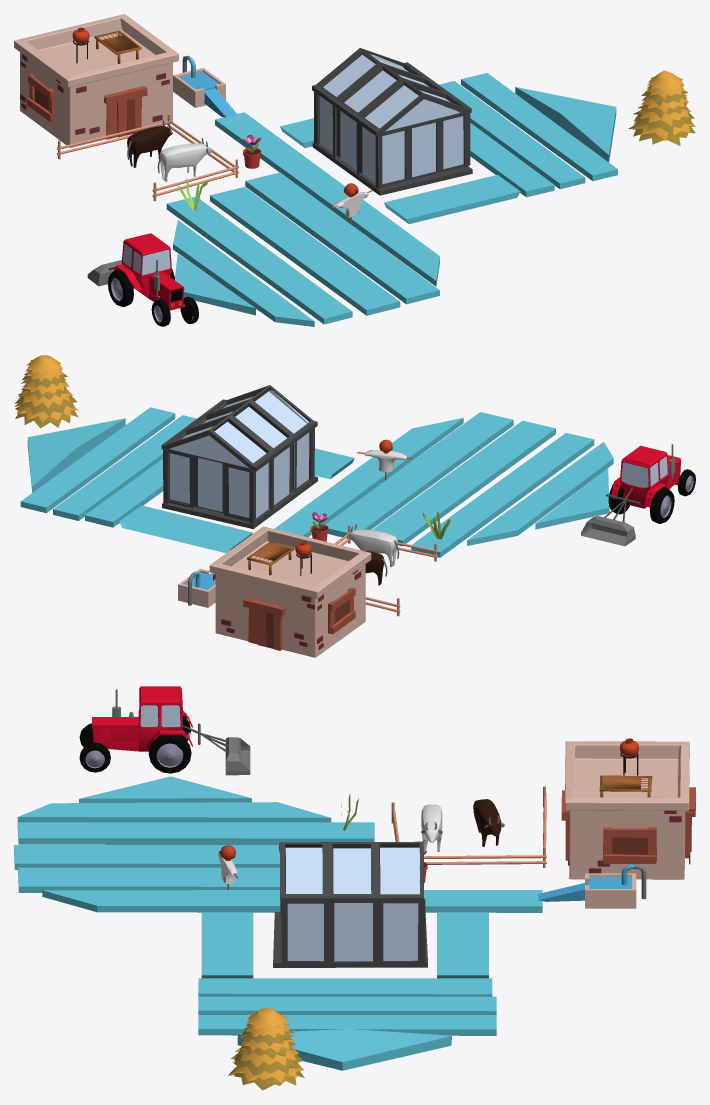
The model's file is Agriculture  asets.fbx.
3 views of the same model, one above another, from view 1: azimuth 30°, elevation 25°; view 2: azimuth 150°, elevation 25°; view 3: azimuth 270°, elevation 25° (orthographic). The views are drawn at different scales.
Parts seen in each view (by area): view 1: water rows, Glass house, building, tractor, Cube.050, Cube.042, hay house, tube well, railing, cow, cow.001, Cot (+3 smaller); view 2: water rows, Glass house, building, tractor, Cube.050, hay house, Cube.042, tube well, cow, Cot, scarecrow, railing; view 3: water rows, Glass house, building, tractor, Cube.042, hay house, tube well, Cube.050, Cube.045, railing, cow.001, Cot (+1 smaller).
Boxes of the visible parts, box(x1,y1,x2,y2) form: water rows: box(166, 73, 616, 326); Glass house: box(312, 48, 472, 195); building: box(14, 14, 178, 147); tractor: box(87, 233, 198, 326); Cube.050: box(461, 73, 617, 181); Cube.042: box(439, 81, 584, 189); hay house: box(628, 70, 695, 145); tube well: box(173, 55, 237, 117); railing: box(57, 114, 238, 201); cow: box(157, 138, 211, 181); cow.001: box(127, 120, 172, 167); Cot: box(94, 30, 141, 63); water rows: box(20, 407, 613, 557); Glass house: box(161, 385, 317, 528); building: box(209, 526, 371, 657); tractor: box(581, 444, 695, 546); Cube.050: box(20, 408, 175, 512); hay house: box(14, 355, 78, 428); Cube.042: box(53, 415, 196, 520); tube well: box(178, 568, 215, 607); cow: box(346, 524, 399, 567); Cot: box(247, 542, 294, 575); scarecrow: box(357, 439, 411, 480); railing: box(334, 525, 437, 616); water rows: box(14, 776, 542, 1070); Glass house: box(273, 841, 427, 967); building: box(561, 741, 695, 879); tractor: box(79, 686, 250, 775); Cube.042: box(198, 996, 496, 1011); hay house: box(228, 1007, 304, 1090); tube well: box(538, 864, 646, 908); Cube.050: box(198, 1015, 496, 1029); Cube.045: box(17, 823, 374, 844); railing: box(391, 786, 546, 867); cow.001: box(473, 799, 504, 846); Cot: box(599, 775, 652, 797).
Size of the model in its own units: 364 by 55.19 by 307.
